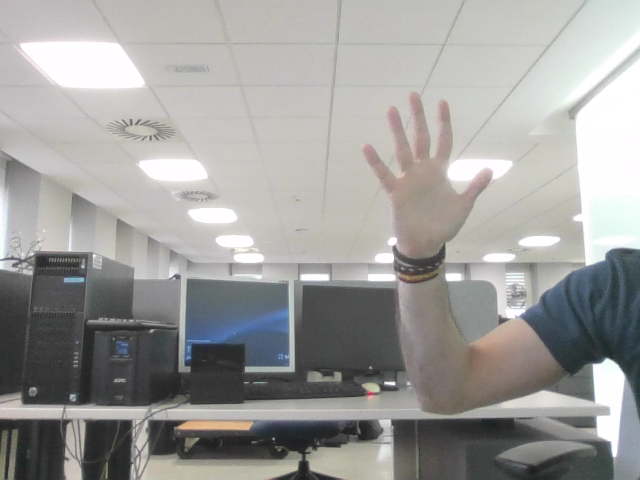Mano Abierta: (373, 104, 481, 221)
